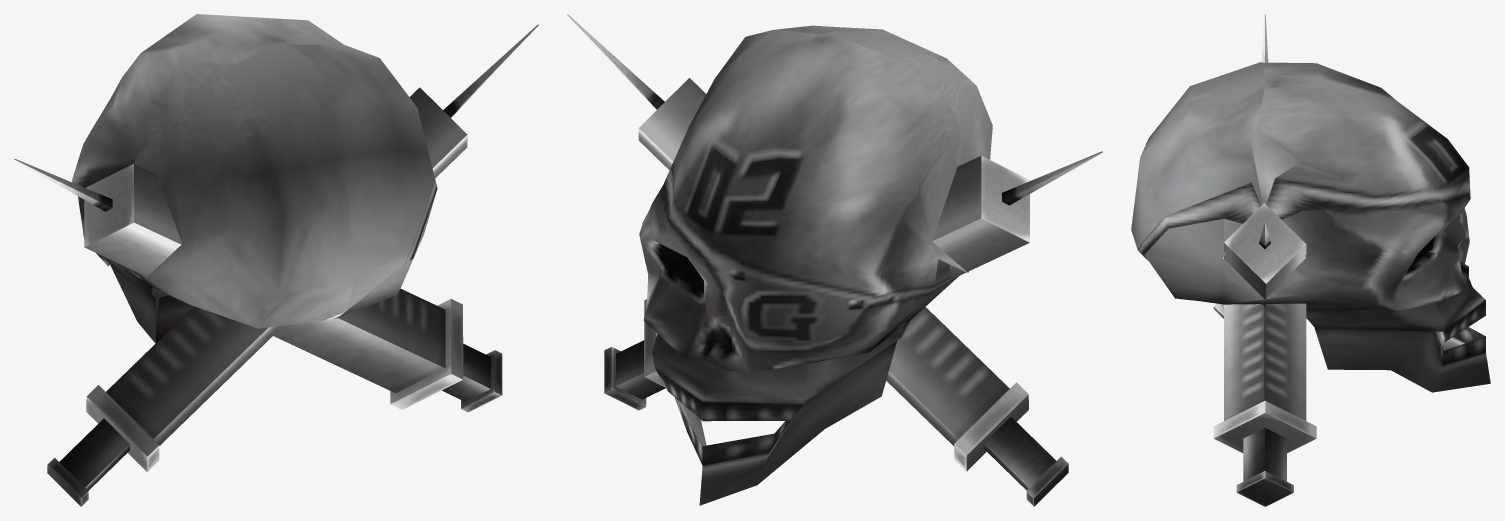
The model's file is view.ico.obj.
3 views of the same model, side by side, from view 1: azimuth 30°, elevation 25°; view 2: azimuth 150°, elevation 25°; view 3: azimuth 270°, elevation 25° (orthographic). The views are drawn at different scales.
Size of the model in its own units: 4.11 by 3.11 by 2.9.
Materials: 1 (1 with a texture image).
